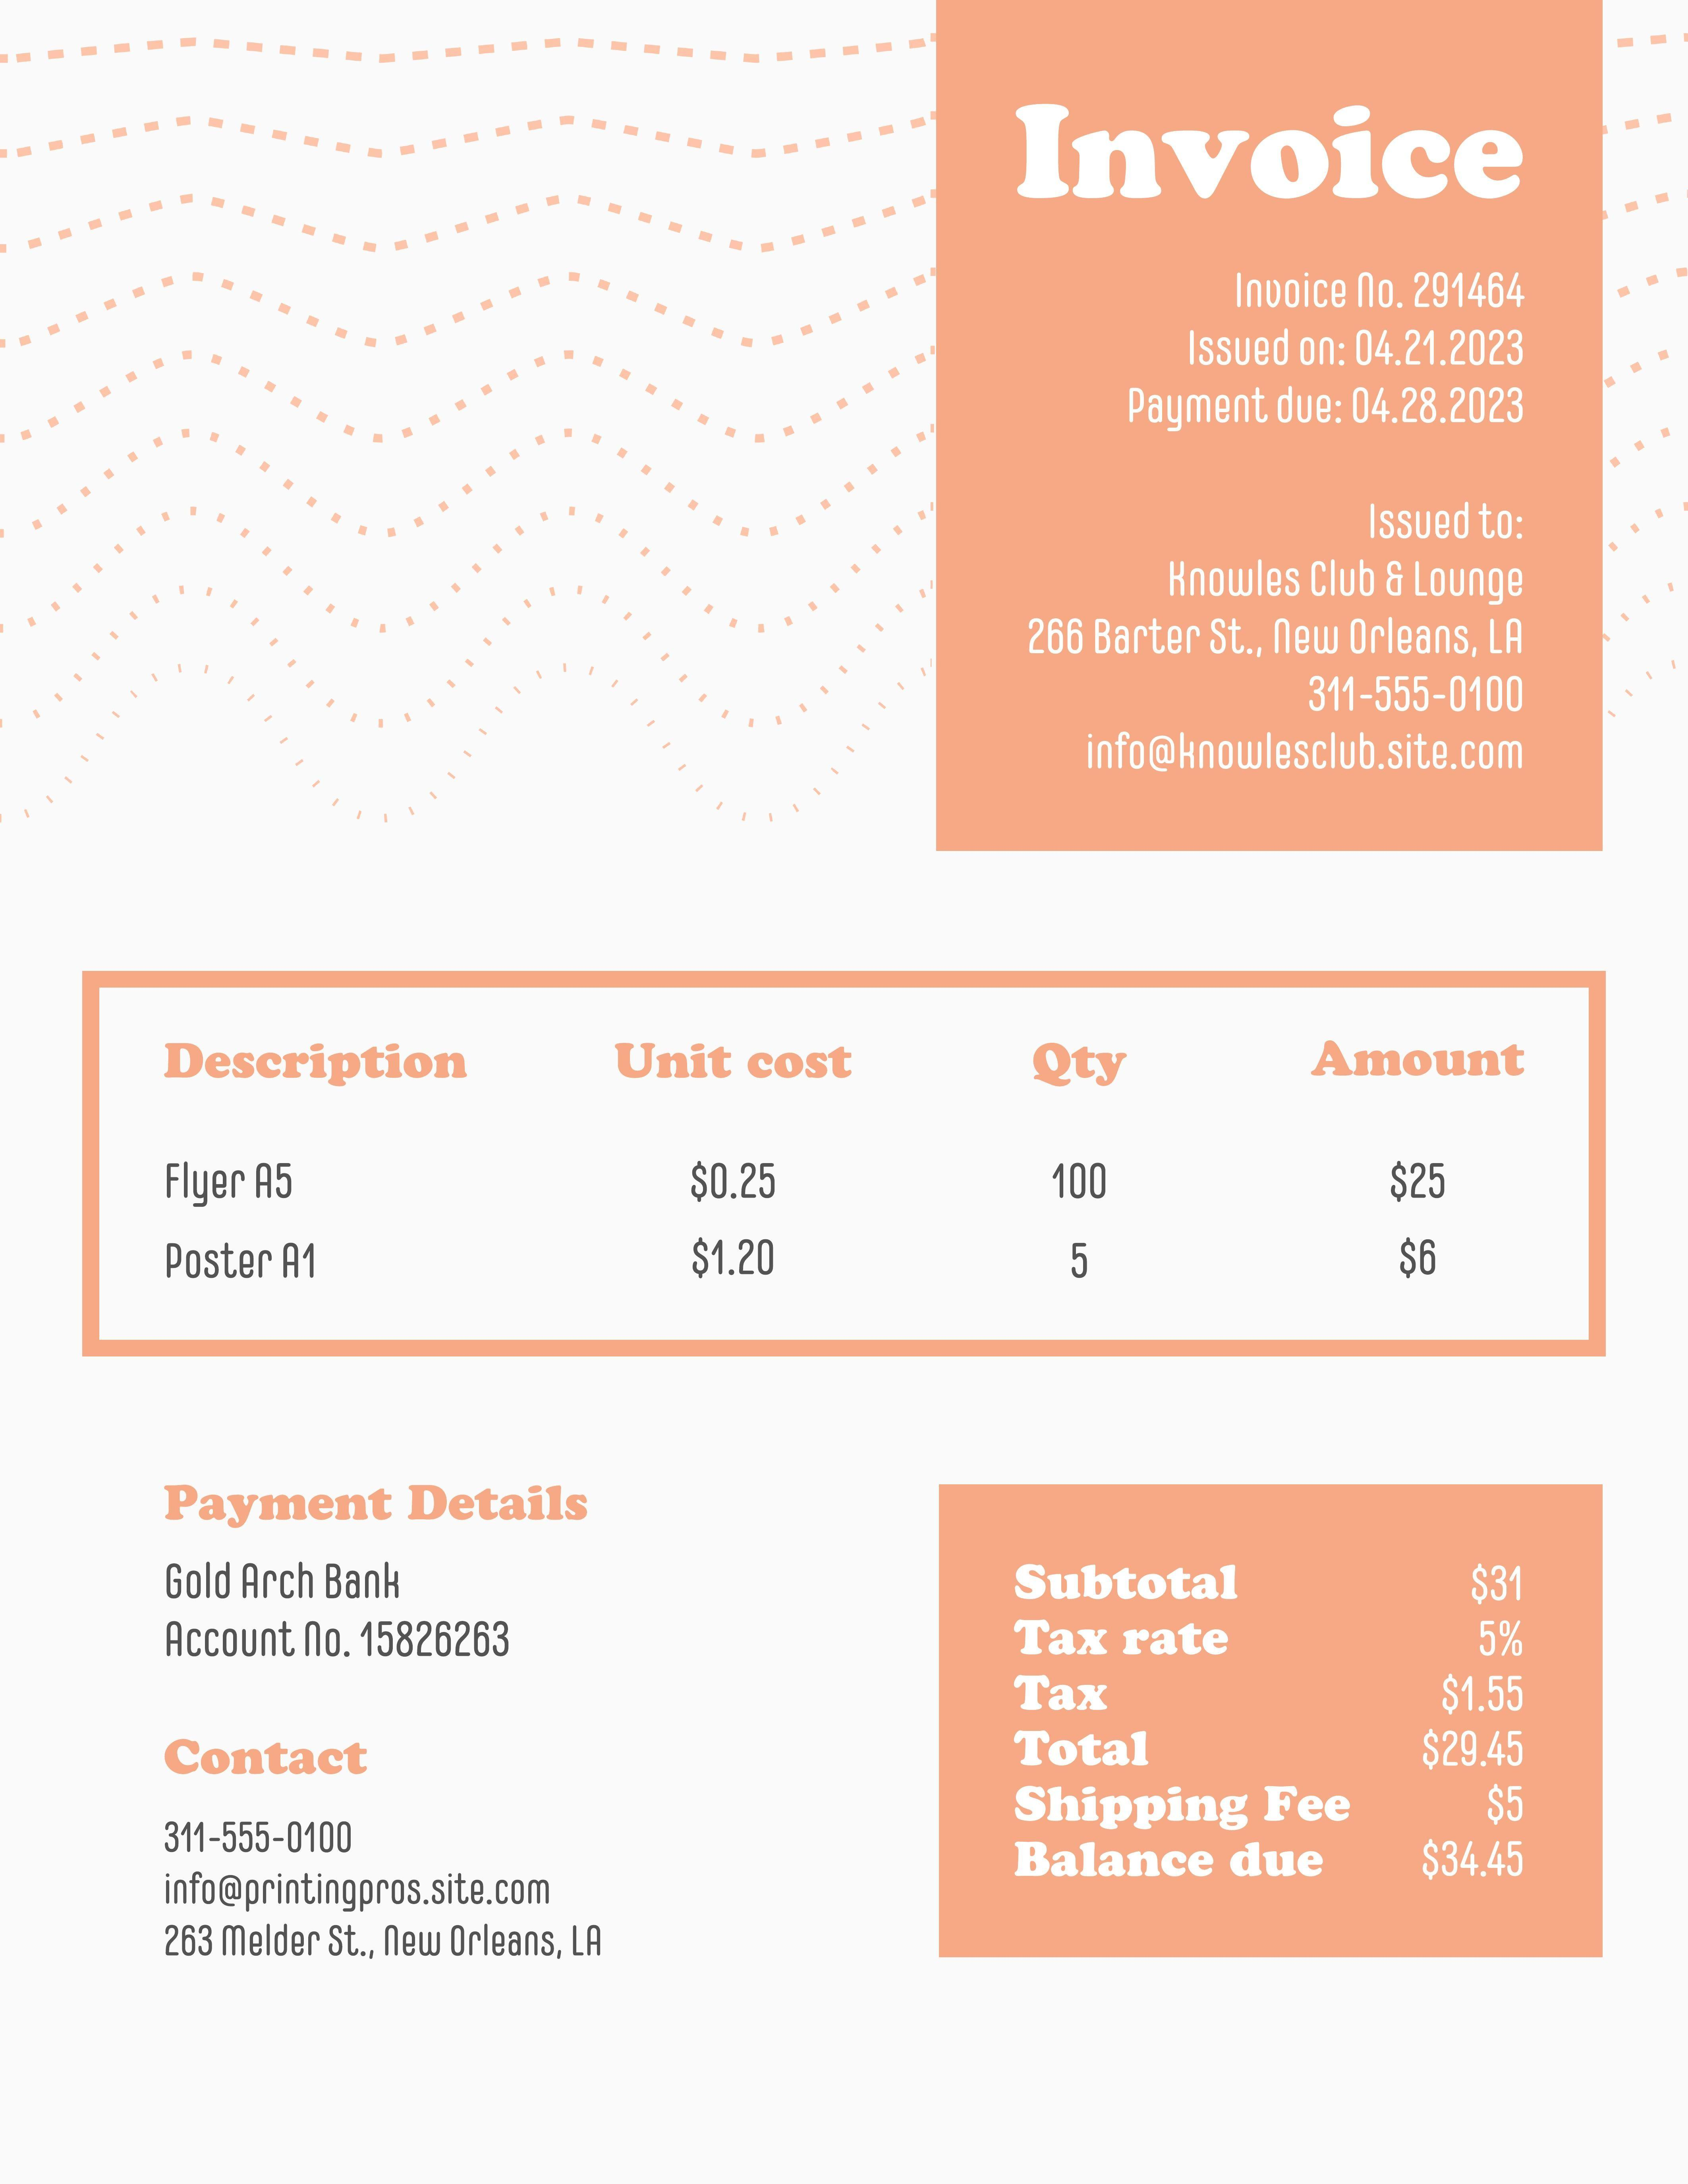ROI: (110, 1003, 1578, 1324), (991, 1528, 1576, 1913), (1012, 480, 1551, 815), (144, 1732, 619, 1996), (145, 1450, 603, 1695), (1089, 222, 1548, 450)
